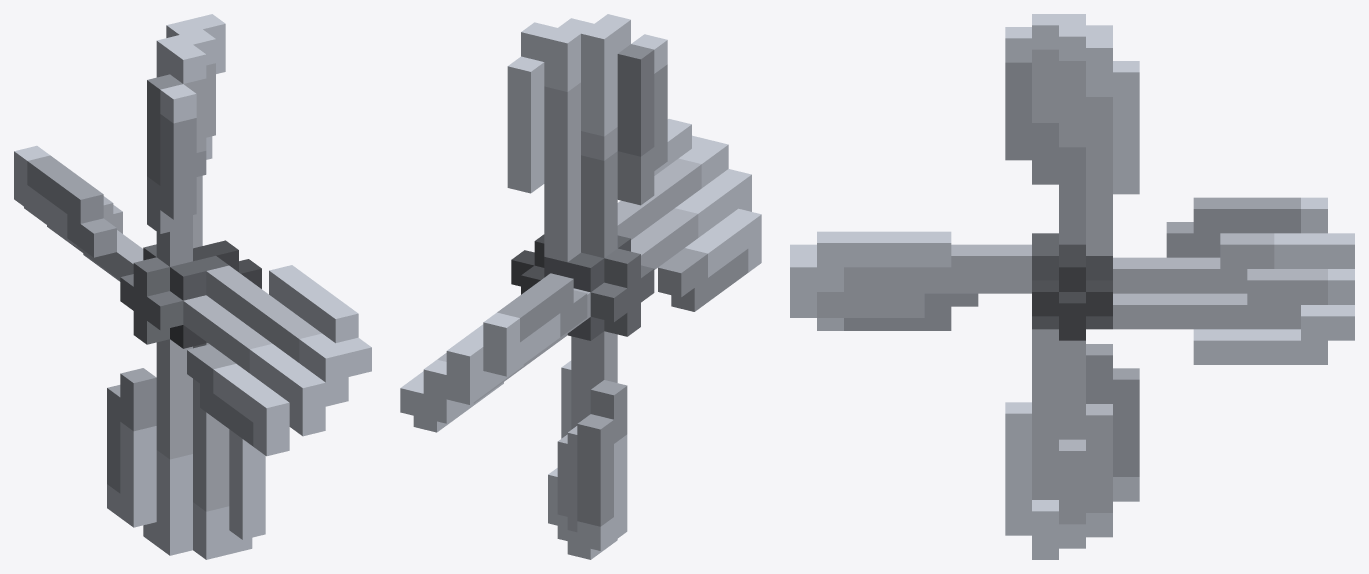
File: ship_pan.FBX
The picture shows the model from 3 angles, left to right: view 1: azimuth 30°, elevation 25°; view 2: azimuth 150°, elevation 25°; view 3: azimuth 270°, elevation 25°; orthographic projection.
Visible parts, largest first — view 1: default; view 2: default; view 3: default.
Boxes of the visible parts, x1,y1,x2,y2 form: default: (14, 14, 371, 559); default: (400, 14, 761, 559); default: (790, 14, 1354, 559).
Bounding box in the file's own units: 5 × 21 × 21.
